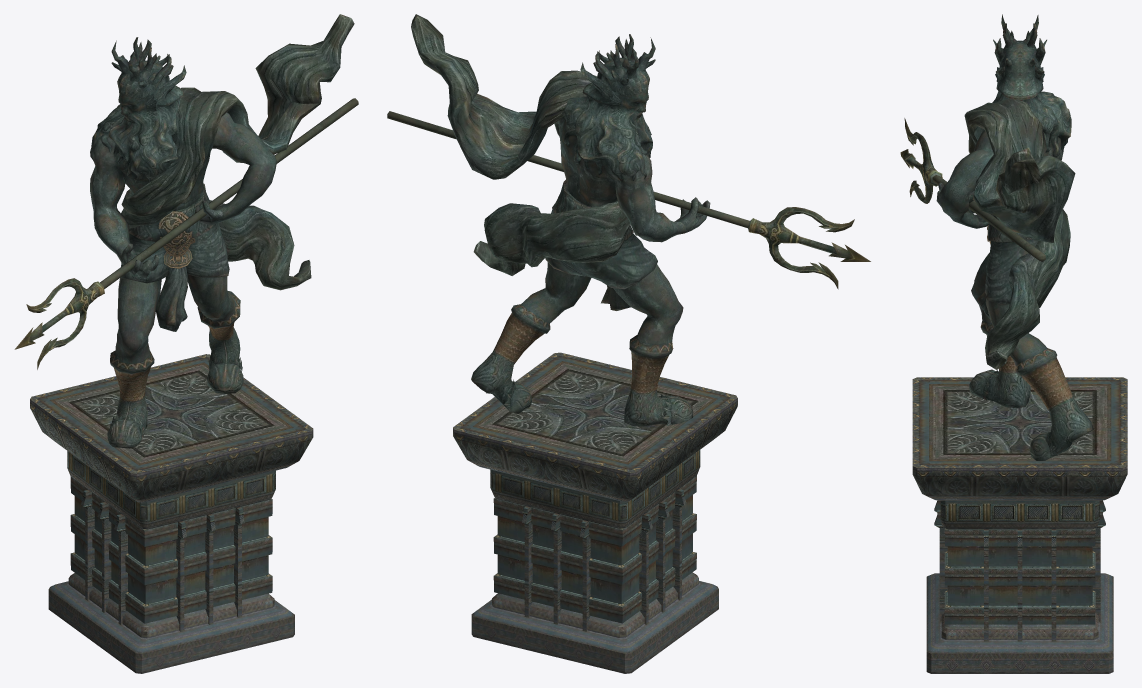
File: statue-size-2-2.glb
3 views of the same model, side by side, from view 1: azimuth 30°, elevation 25°; view 2: azimuth 150°, elevation 25°; view 3: azimuth 270°, elevation 25° (orthographic).
Visible parts, largest first — view 1: LV_Reservior_Object_SDoorB_SM_NWCREX, LV_Reservior_Object_StatueGatekeeper01_SM_NWCTOY, LV_Reservior_Object_StatueGatekeeper02_SM_NWCTOY; view 2: LV_Reservior_Object_SDoorB_SM_NWCREX, LV_Reservior_Object_StatueGatekeeper01_SM_NWCTOY, LV_Reservior_Object_StatueGatekeeper02_SM_NWCTOY; view 3: LV_Reservior_Object_SDoorB_SM_NWCREX, LV_Reservior_Object_StatueGatekeeper01_SM_NWCTOY, LV_Reservior_Object_StatueGatekeeper02_SM_NWCTOY.
Boxes of the visible parts, x1=… form: LV_Reservior_Object_SDoorB_SM_NWCREX: x1=30, y1=354, x2=313, y2=673; LV_Reservior_Object_StatueGatekeeper01_SM_NWCTOY: x1=90, y1=37, x2=276, y2=448; LV_Reservior_Object_StatueGatekeeper02_SM_NWCTOY: x1=14, y1=14, x2=358, y2=369; LV_Reservior_Object_SDoorB_SM_NWCREX: x1=453, y1=352, x2=737, y2=673; LV_Reservior_Object_StatueGatekeeper01_SM_NWCTOY: x1=471, y1=34, x2=710, y2=426; LV_Reservior_Object_StatueGatekeeper02_SM_NWCTOY: x1=387, y1=14, x2=870, y2=289; LV_Reservior_Object_SDoorB_SM_NWCREX: x1=912, y1=377, x2=1127, y2=673; LV_Reservior_Object_StatueGatekeeper01_SM_NWCTOY: x1=936, y1=14, x2=1093, y2=460; LV_Reservior_Object_StatueGatekeeper02_SM_NWCTOY: x1=900, y1=98, x2=1075, y2=369.
Size of the model in its own units: 10.55 by 14.34 by 4.94.
Materials: 3 (3 with a texture image).
